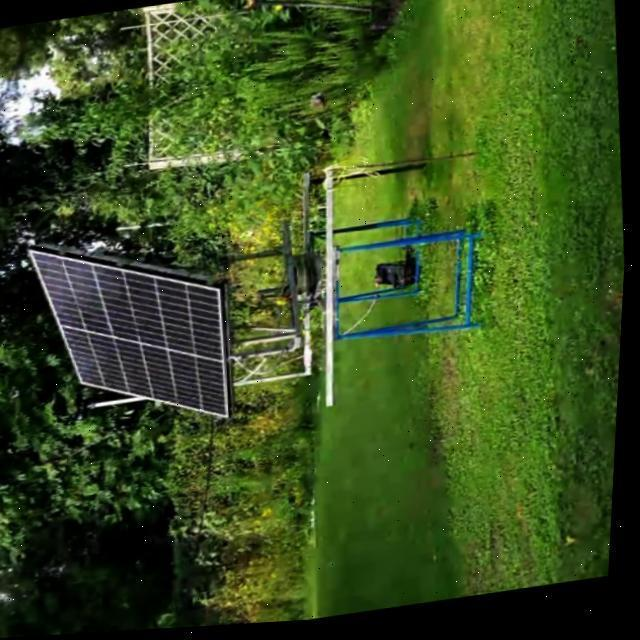Normal Solar Panel: (26, 218, 244, 444)
